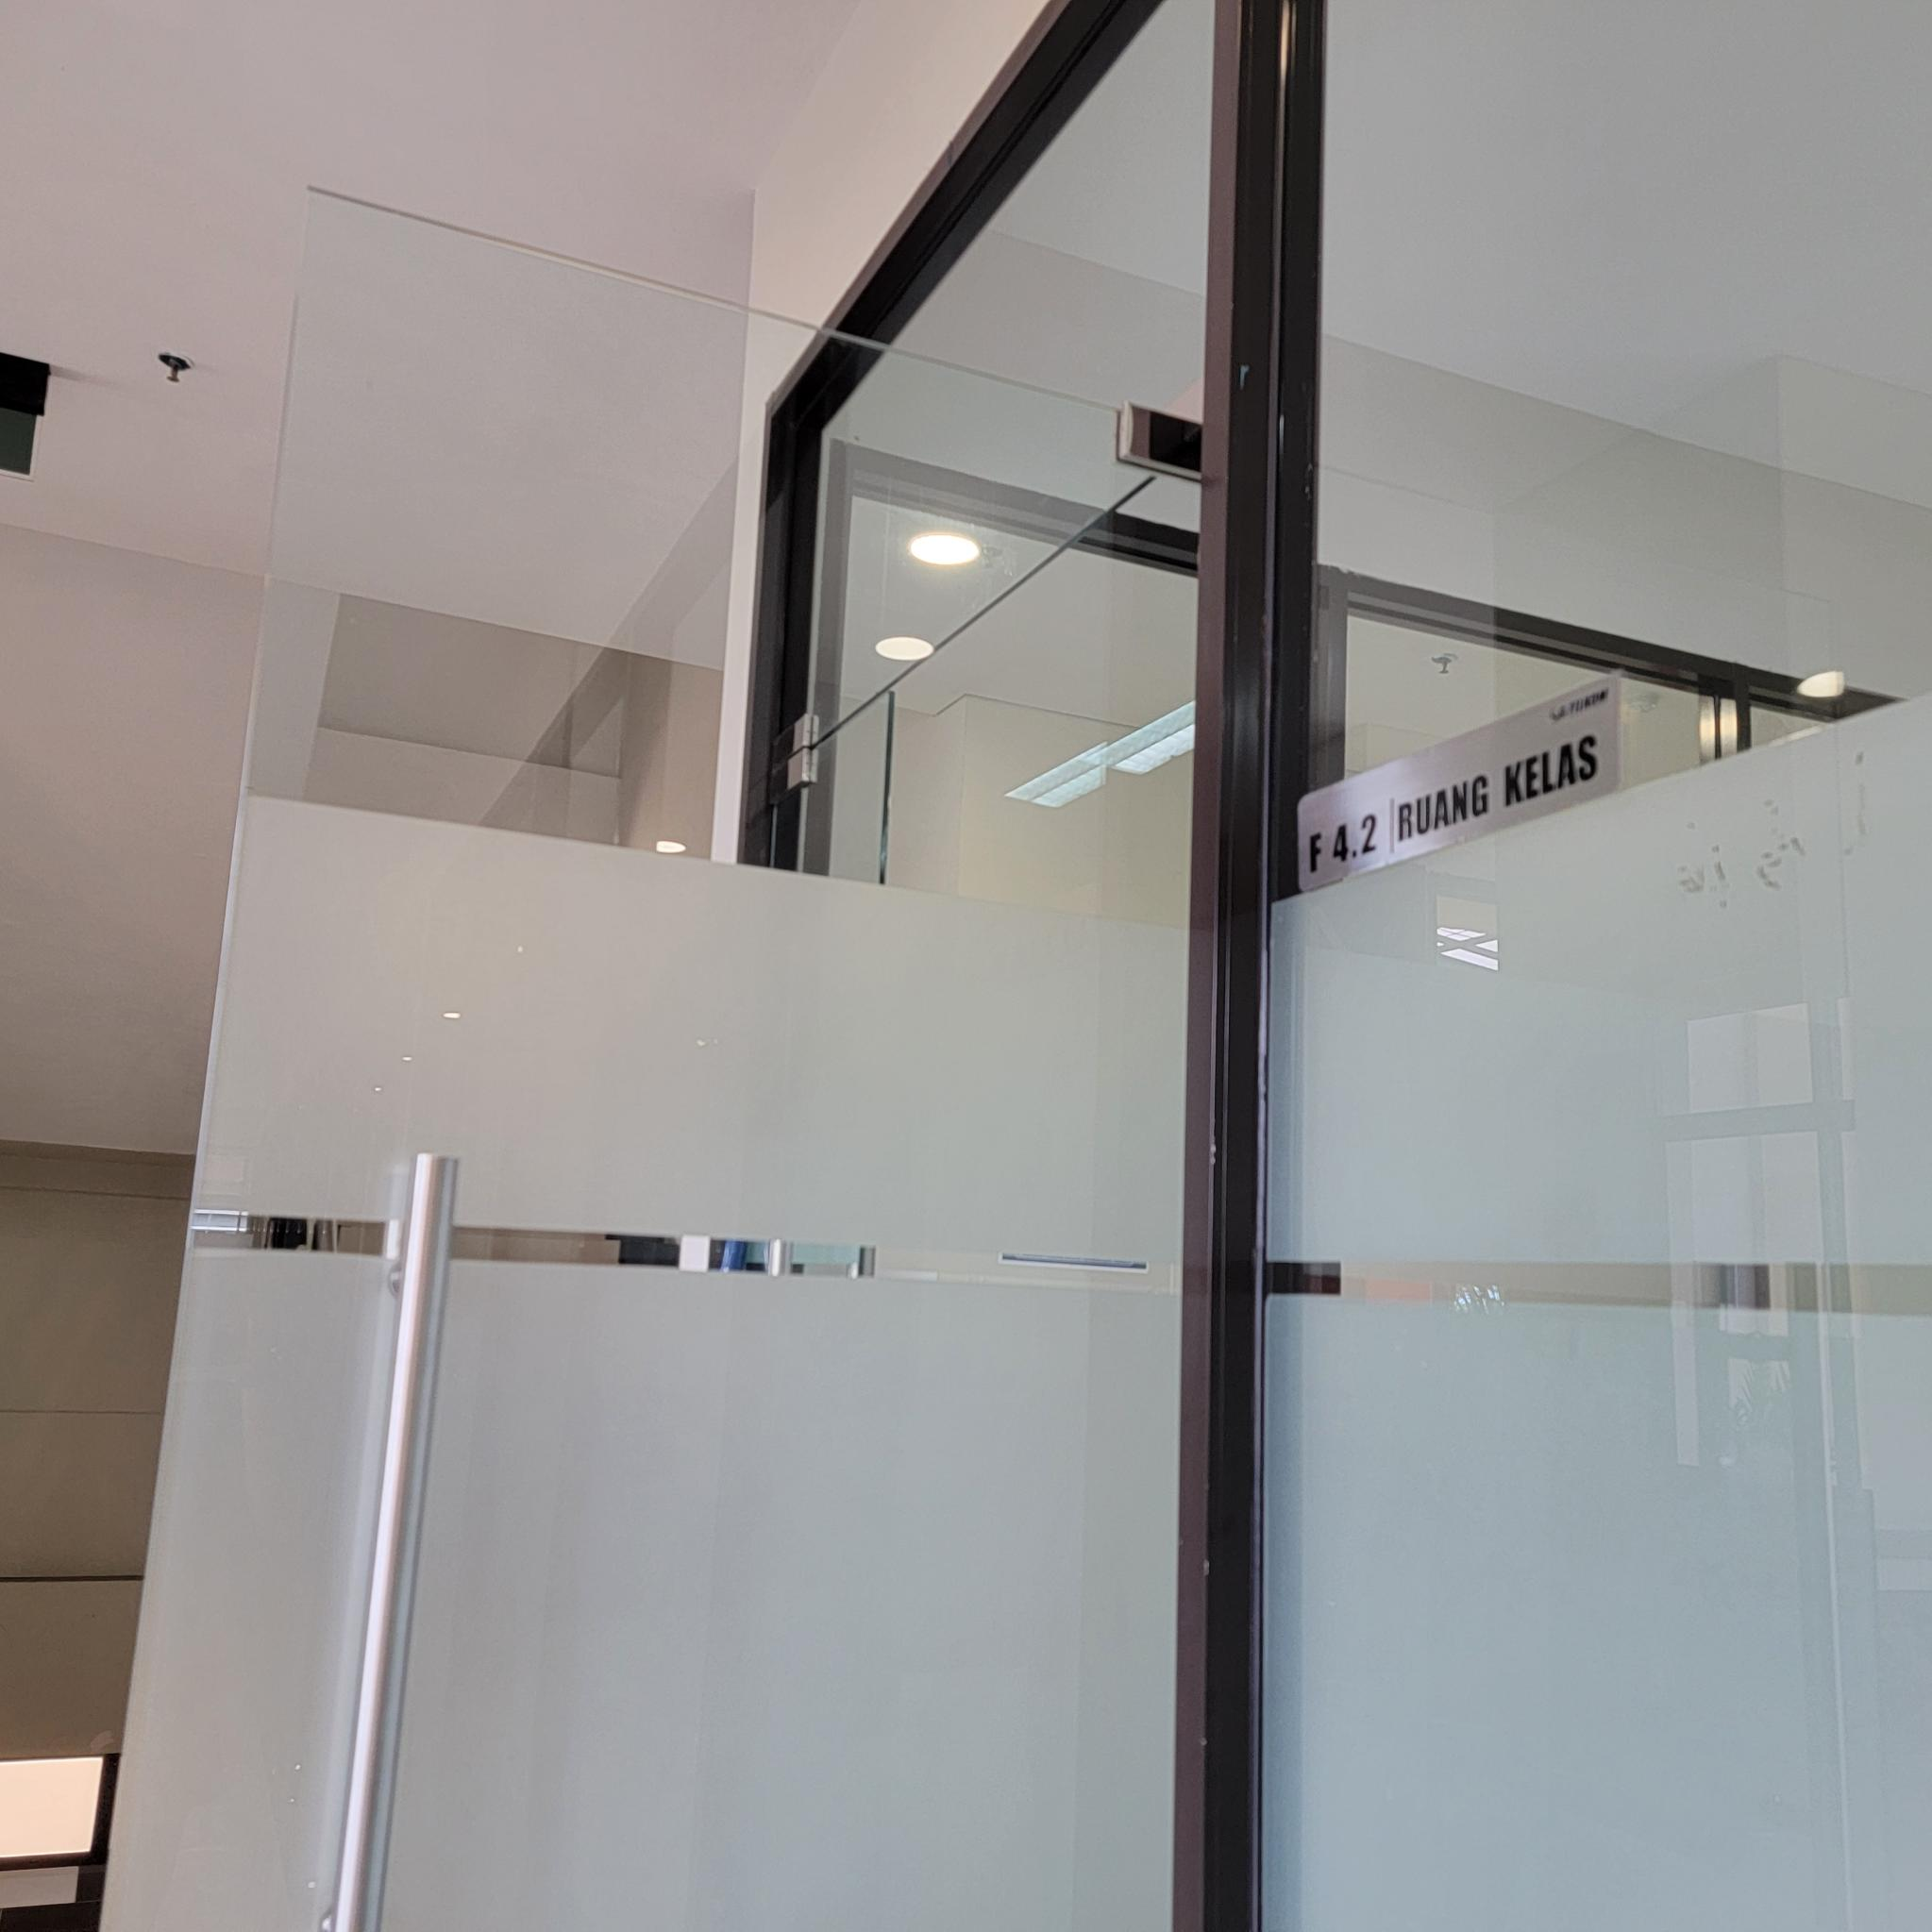plate: (1297, 676, 1624, 893)
